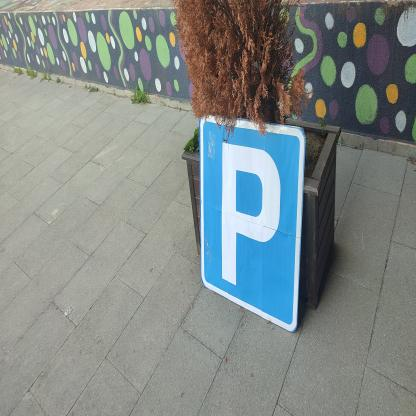Parking-Sign: (199, 112, 309, 336)
